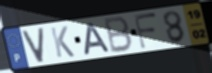8: (162, 10, 188, 45)
A: (82, 21, 112, 56)
B: (103, 15, 134, 55)
F: (132, 11, 159, 50)
K: (49, 25, 76, 59)
V: (21, 26, 46, 64)
